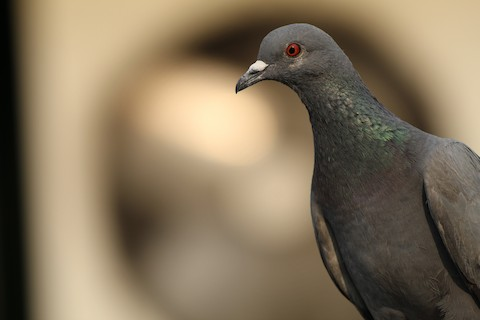pigeon: (224, 16, 472, 313)
